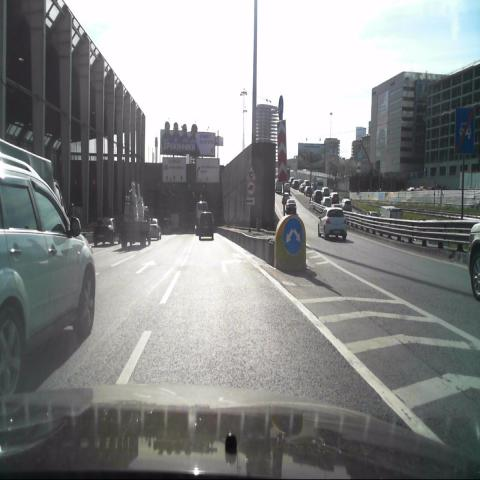5_4: (455, 106, 474, 155)
